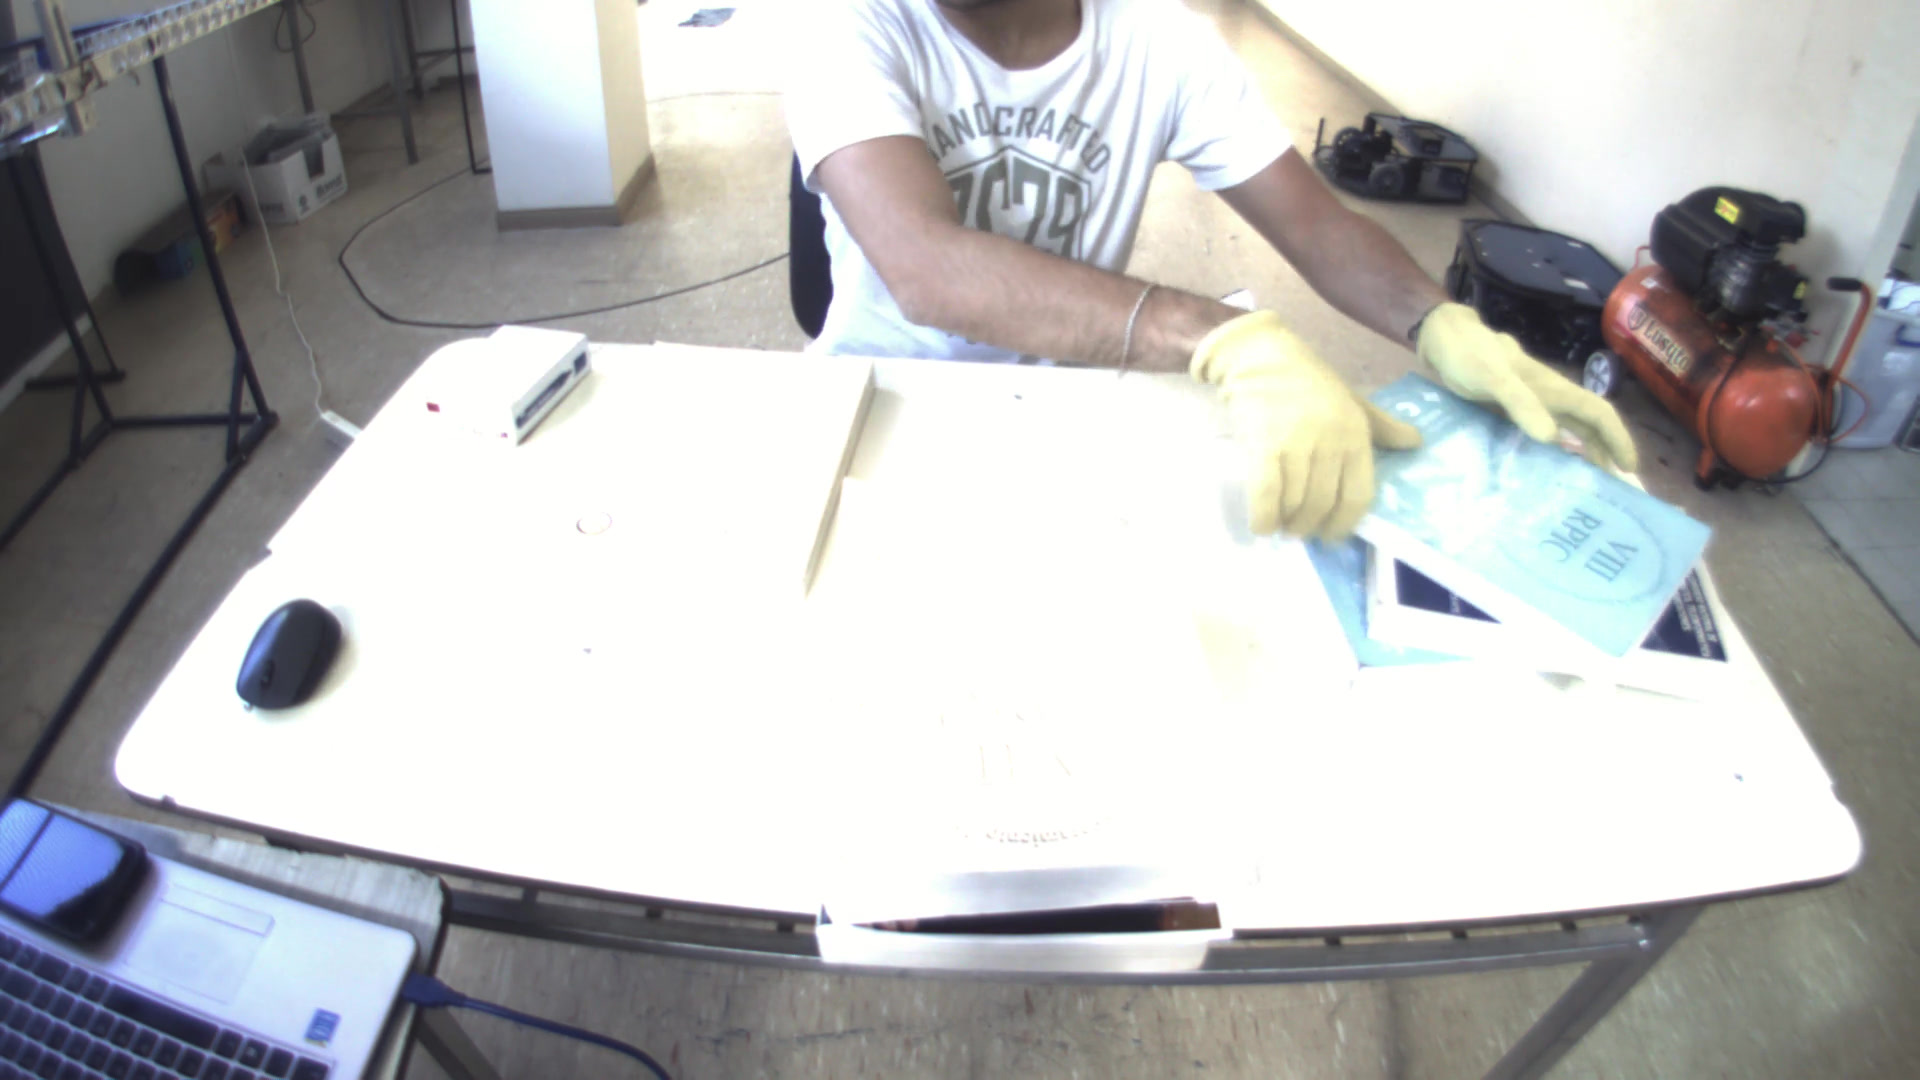hand: (1183, 301, 1402, 549), (1418, 290, 1656, 469)
